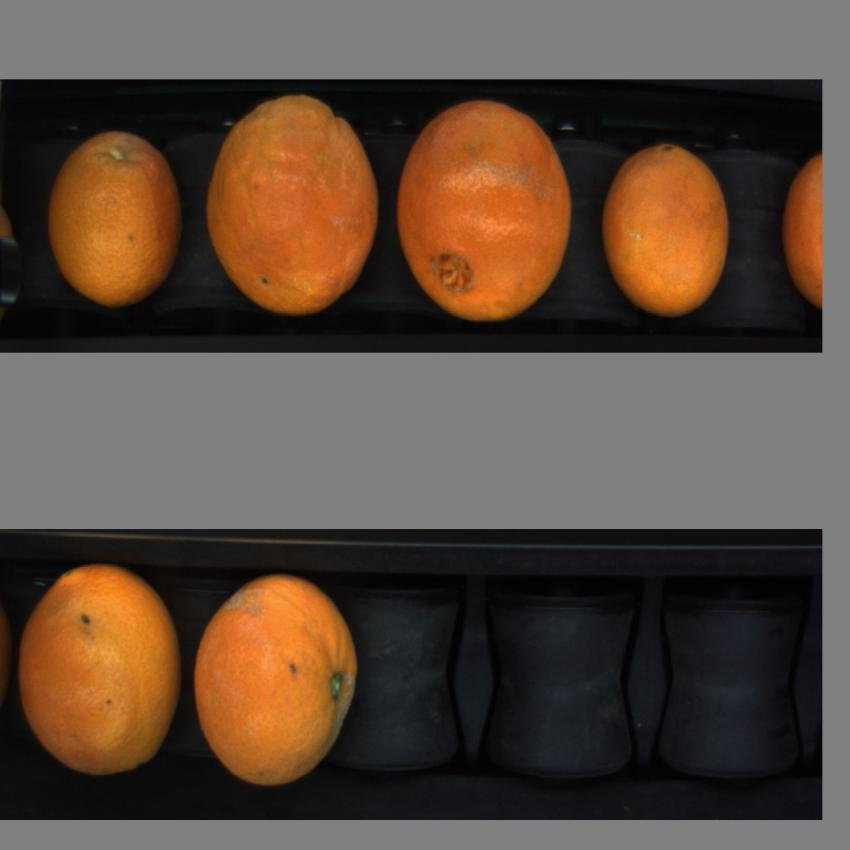Buen estado: (191, 568, 363, 790), (17, 557, 181, 780), (602, 134, 732, 314), (774, 148, 824, 316)
Mal estado: (202, 87, 386, 324), (395, 101, 576, 321), (45, 124, 181, 311)
